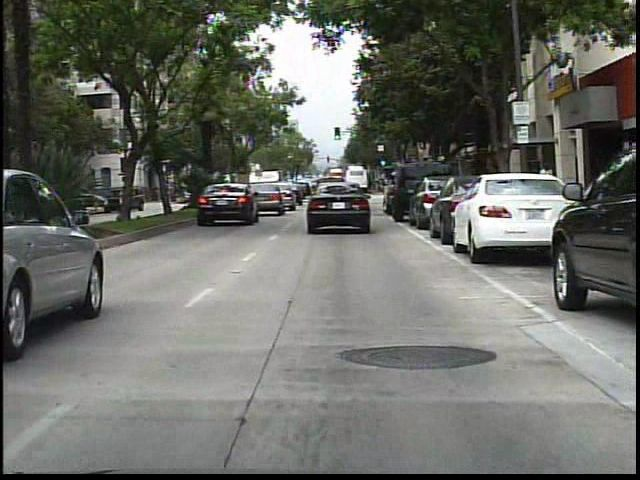person: (535, 157, 558, 218)
